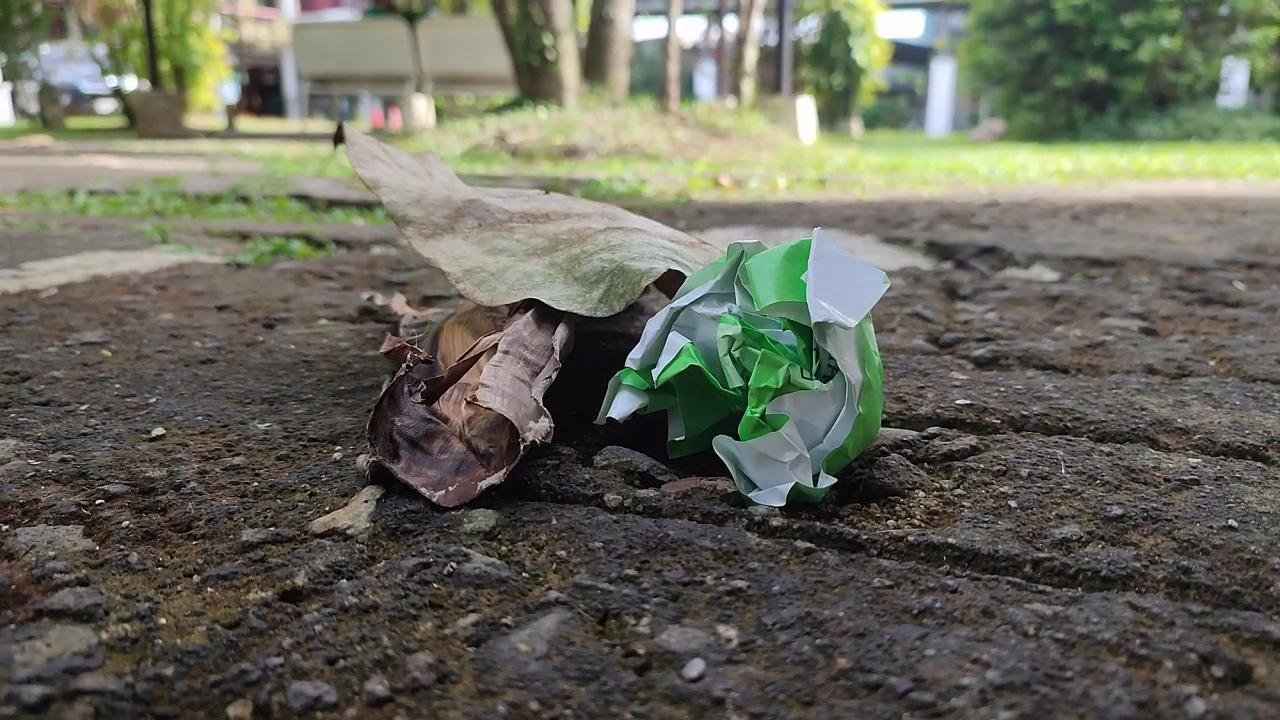Paper: (592, 219, 905, 533)
